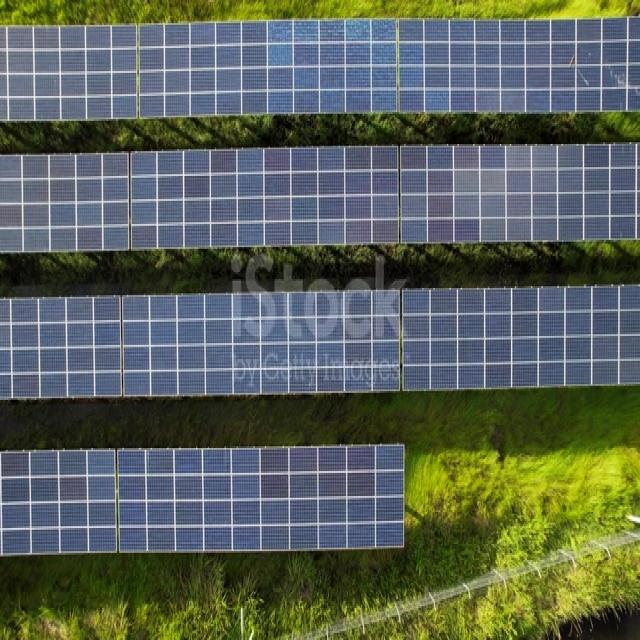solar-panel: (1, 141, 640, 245), (3, 19, 640, 113), (2, 297, 640, 388), (1, 453, 409, 550)
